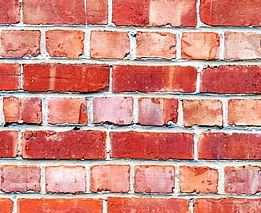brick: (22, 62, 110, 93), (22, 129, 110, 159), (112, 65, 198, 93), (111, 1, 197, 27), (110, 132, 195, 158), (199, 62, 261, 95), (198, 133, 261, 161), (199, 1, 261, 28), (15, 196, 101, 213), (22, 1, 85, 24), (91, 94, 135, 125), (43, 96, 90, 124), (132, 165, 177, 194), (221, 163, 261, 195), (88, 29, 132, 58), (105, 196, 189, 211), (89, 163, 132, 192), (1, 29, 42, 59), (45, 28, 87, 57), (1, 95, 43, 124), (45, 164, 87, 193), (177, 165, 220, 193), (181, 98, 225, 125), (135, 32, 178, 59), (136, 98, 180, 124), (180, 32, 222, 59), (1, 164, 42, 191), (223, 32, 261, 59), (191, 198, 261, 212), (226, 98, 261, 125), (1, 62, 22, 91), (1, 129, 20, 159), (86, 1, 108, 24), (1, 1, 22, 24), (1, 196, 15, 213)
